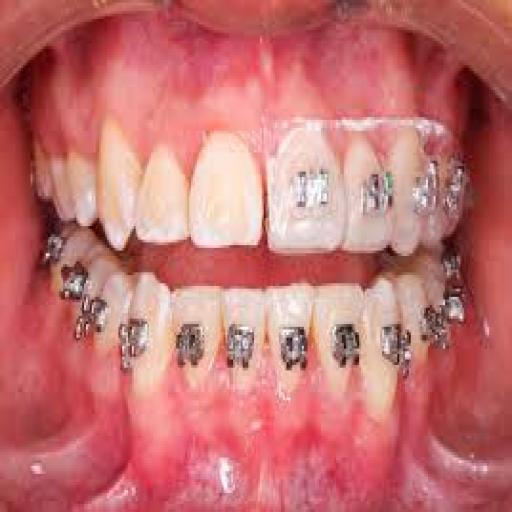correct_brace: (290, 165, 334, 221), (174, 314, 209, 376), (328, 314, 363, 376), (278, 317, 310, 382), (225, 317, 258, 376)
incorrect_brace: (313, 275, 366, 406), (169, 282, 223, 393)
